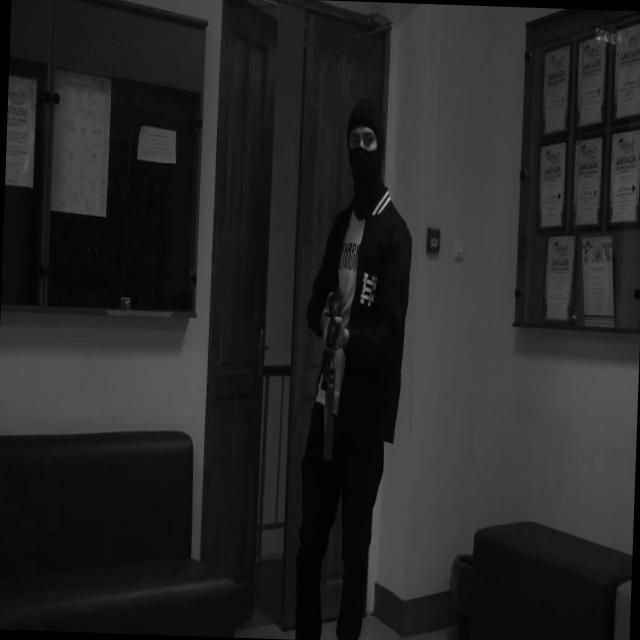gun: (320, 253, 344, 392)
person with a gun: (292, 96, 416, 640)
